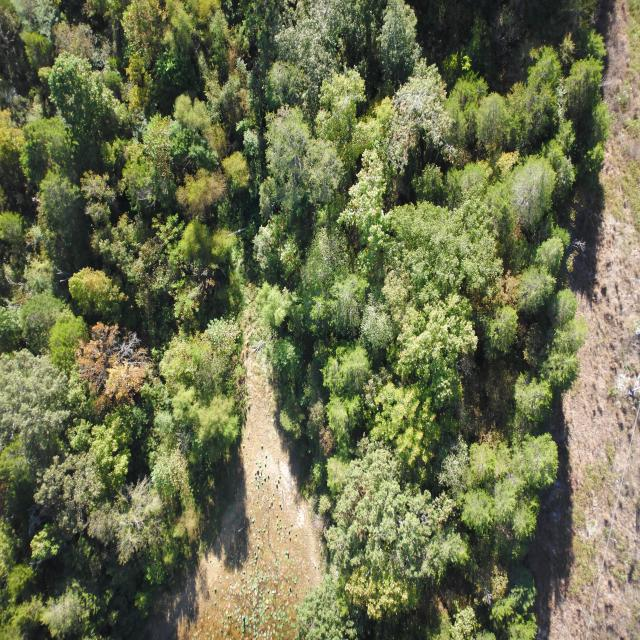Area of Interest: (5, 11, 603, 630)
